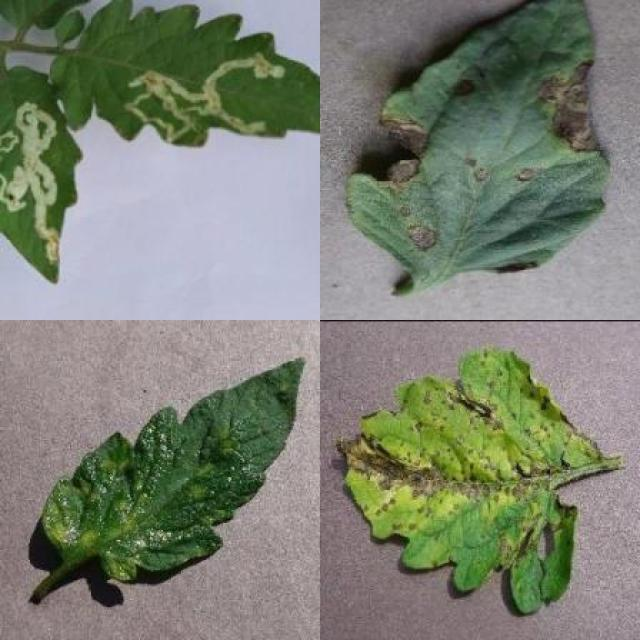Early Blight: (344, 0, 610, 273)
Leaf Miner: (60, 0, 320, 147), (0, 64, 83, 285)
Leaf Mold: (40, 357, 306, 580)
Septoria: (336, 347, 596, 612)
